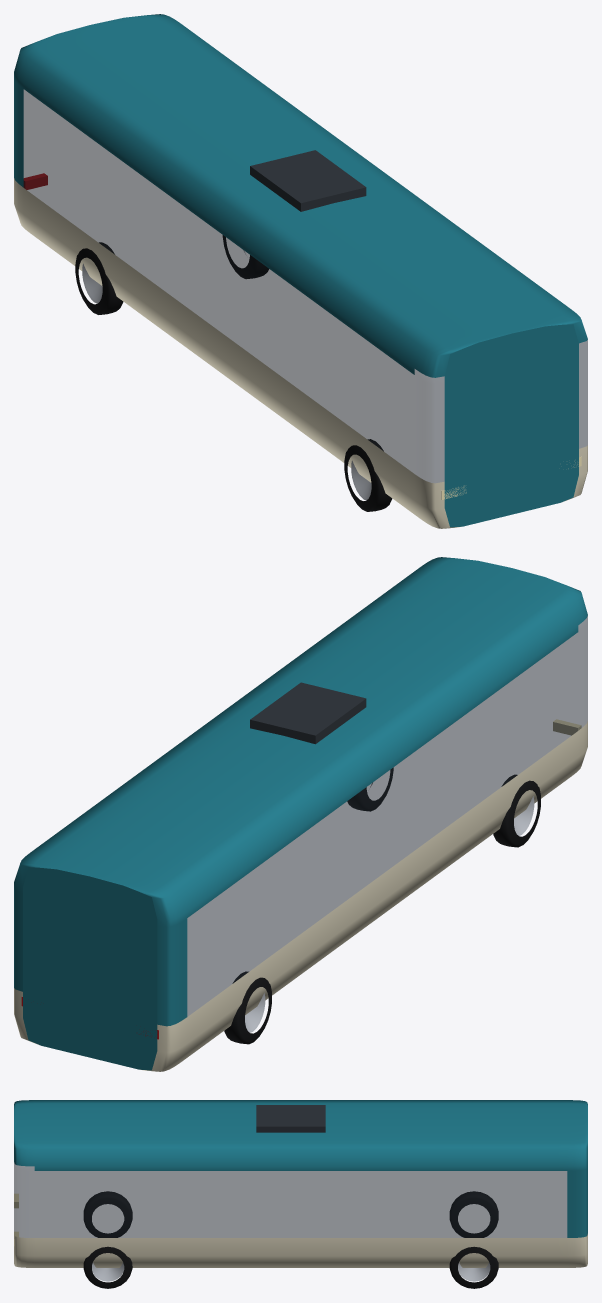
File: desktop.glb
The picture shows the model from 3 angles, top to bottom: view 1: azimuth 30°, elevation 25°; view 2: azimuth 150°, elevation 25°; view 3: azimuth 270°, elevation 25°; orthographic projection. The views are drawn at different scales.
Parts seen in each view (by area): view 1: body, glass, tyre_fr, tyre_rr; view 2: body, glass, tyre_fr, tyre_rr; view 3: body, glass, tyre_fr, tyre_rr, tyre_fl, tyre_rl, rim_fl, rim_rl.
Part boxes in pixels (left/top/right/bottom): body: left=14, top=14, right=587, bottom=528; glass: left=23, top=89, right=587, bottom=483; tyre_fr: left=344, top=439, right=392, bottom=511; tyre_rr: left=75, top=242, right=123, bottom=314; body: left=14, top=557, right=587, bottom=1071; glass: left=187, top=616, right=587, bottom=1016; tyre_fr: left=493, top=774, right=540, bottom=847; tyre_rr: left=224, top=971, right=271, bottom=1044; body: left=14, top=1100, right=587, bottom=1267; glass: left=14, top=1162, right=567, bottom=1237; tyre_fr: left=83, top=1191, right=132, bottom=1237; tyre_rr: left=449, top=1191, right=498, bottom=1237; tyre_fl: left=83, top=1246, right=132, bottom=1288; tyre_rl: left=449, top=1246, right=498, bottom=1288; rim_fl: left=92, top=1262, right=124, bottom=1281; rim_rl: left=458, top=1262, right=490, bottom=1281.
Size of what is drawn, in the model's own units: 2.64 by 3.27 by 11.6.
